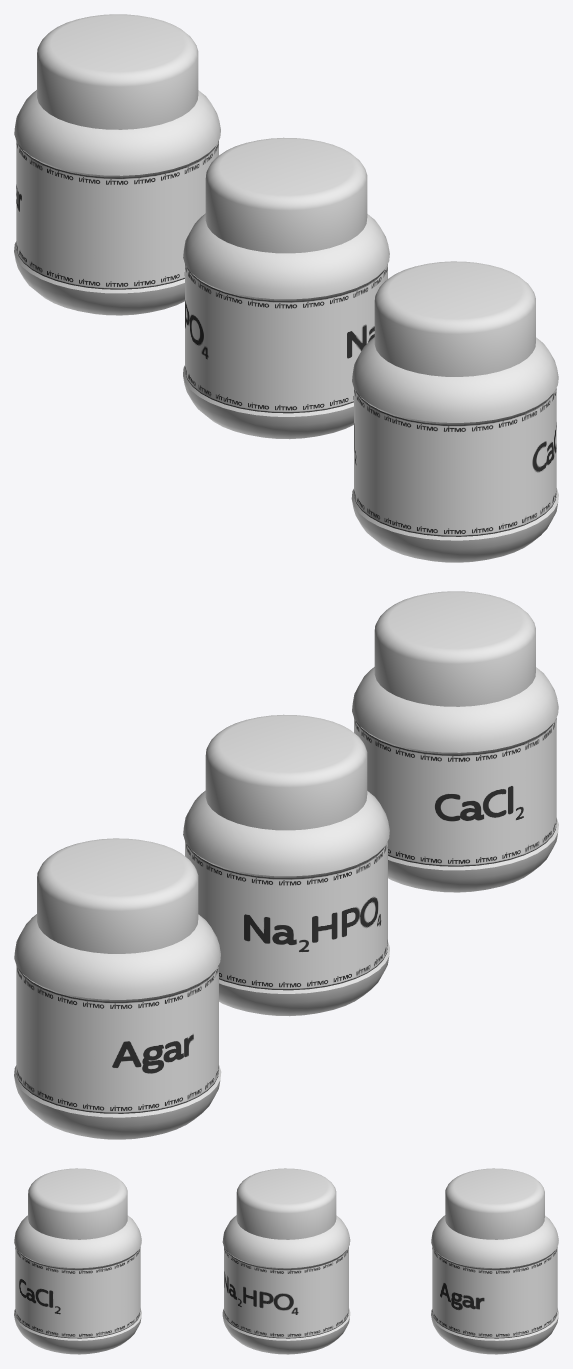
File: 10Reactivy.fbx
The picture shows the model from 3 angles, top to bottom: view 1: azimuth 30°, elevation 25°; view 2: azimuth 150°, elevation 25°; view 3: azimuth 270°, elevation 25°; orthographic projection. The views are drawn at different scales.
Parts seen in each view (by area): view 1: base, base.002, base.001, cap.001, cap, cap.002; view 2: base.002, base, base.001, cap.001, cap, cap.002; view 3: base.002, base, base.001, cap.001, cap, cap.002.
Part boxes in pixels (x1,y1,x2,y2): base: [351, 337, 558, 562]; base.002: [14, 90, 220, 315]; base.001: [183, 213, 389, 439]; cap.001: [205, 137, 367, 253]; cap: [374, 261, 535, 376]; cap.002: [37, 14, 198, 129]; base.002: [14, 914, 221, 1139]; base: [352, 667, 558, 892]; base.001: [183, 790, 389, 1016]; cap.001: [205, 714, 367, 830]; cap: [374, 591, 535, 706]; cap.002: [37, 838, 198, 953]; base.002: [431, 1215, 558, 1354]; base: [14, 1215, 141, 1354]; base.001: [222, 1215, 350, 1354]; cap.001: [236, 1168, 336, 1239]; cap: [28, 1168, 127, 1239]; cap.002: [445, 1168, 544, 1239].
Bounding box in the file's own units: 150 × 194 × 639.
4 materials, 3 textured.
